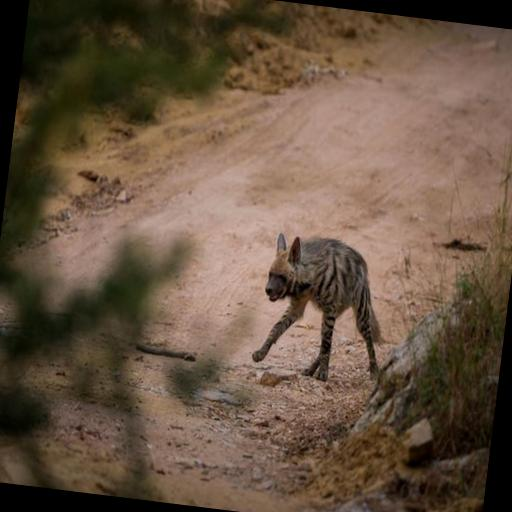hyenas: (226, 210, 411, 412)
